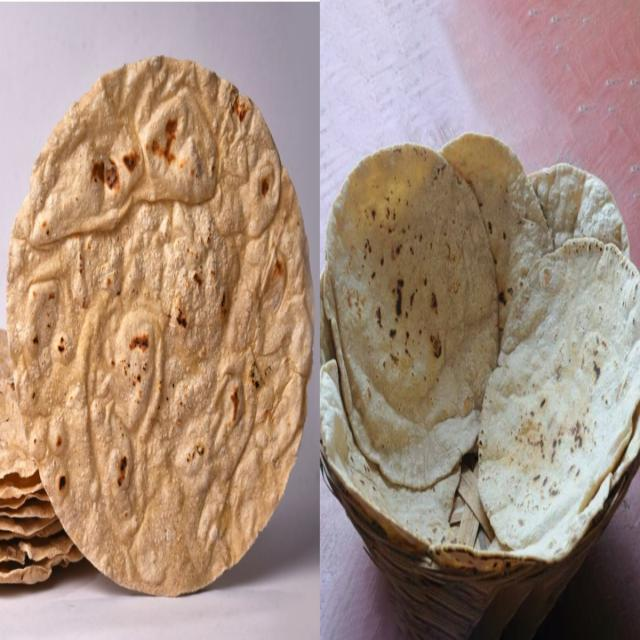ROTI: (2, 69, 325, 601), (314, 162, 489, 491), (474, 233, 639, 548)
